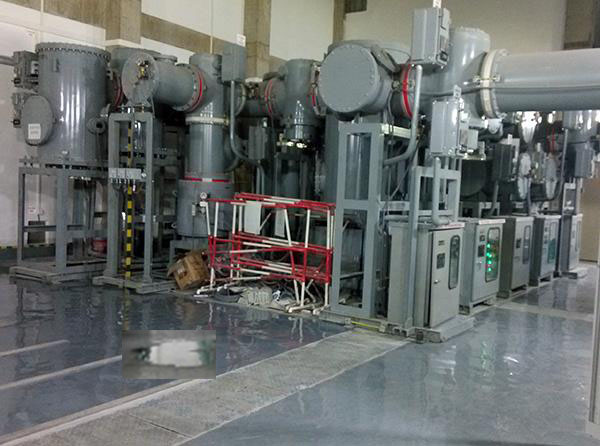oil: (125, 330, 216, 376)
